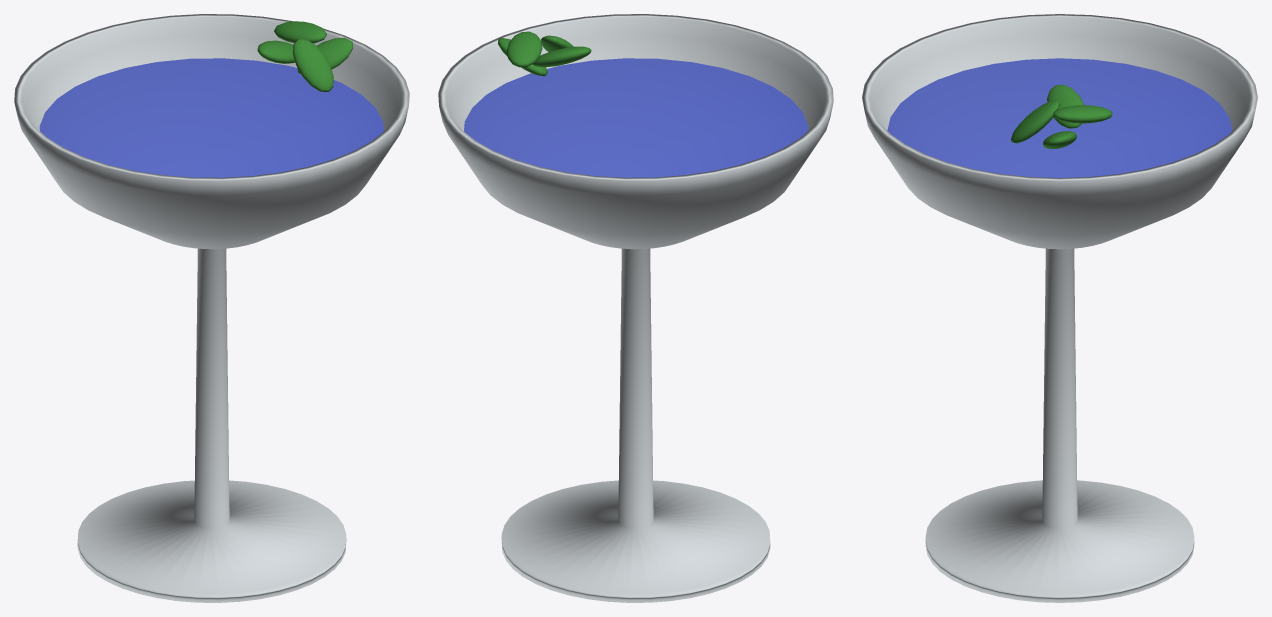
The model's file is cocktail-negroni-s-wife.glb.
3 views of the same model, side by side, from view 1: azimuth 30°, elevation 25°; view 2: azimuth 150°, elevation 25°; view 3: azimuth 270°, elevation 25° (orthographic).
Size of the model in its own units: 0.112 by 0.1525 by 0.112.
